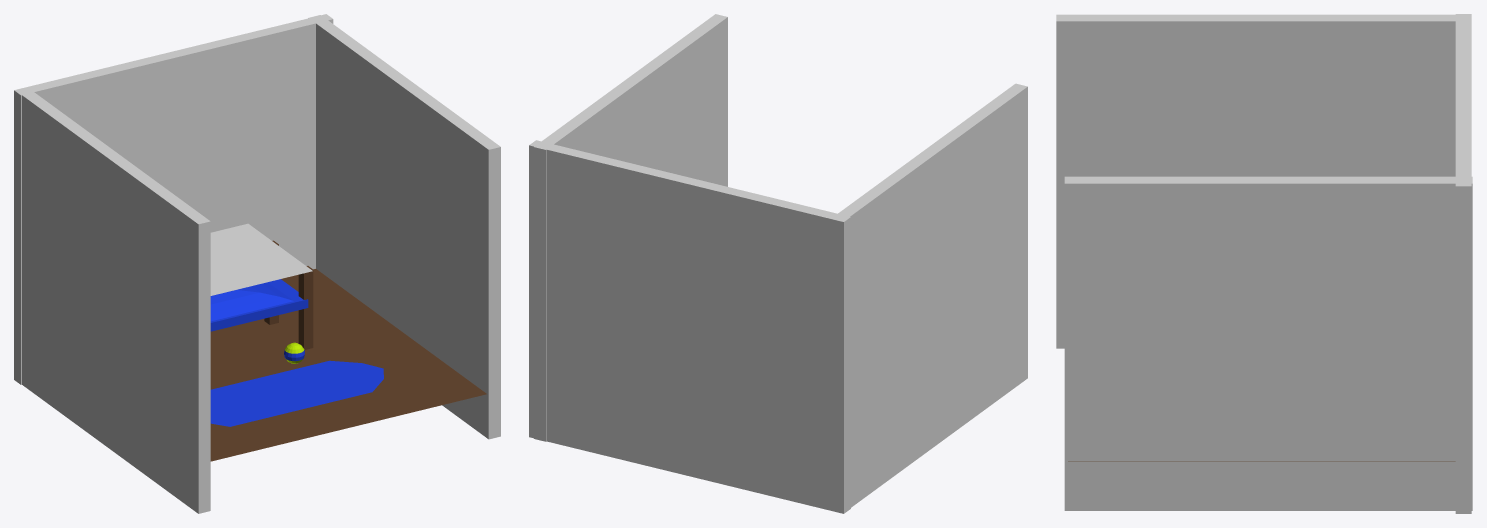
Rendered from andyfix.fbx.
The picture shows the model from 3 angles, left to right: view 1: azimuth 30°, elevation 25°; view 2: azimuth 150°, elevation 25°; view 3: azimuth 270°, elevation 25°; orthographic projection. The views are drawn at different scales.
Parts seen in each view (by area): view 1: Cube.002, Cube.001, Cube, Plane, Plane.001, Plane.002, Cube.004; view 2: Cube, Cube.002, Cube.001; view 3: Cube.001, Cube.002, Cube.
Boxes of the visible parts, x1,y1,x2,y2 form: Cube.002: (18,92,210,513); Cube.001: (308,15,500,439); Cube: (14,14,333,384); Plane: (210,269,486,461); Plane.001: (210,360,383,426); Plane.002: (210,223,312,295); Cube.004: (210,240,313,349); Cube: (529,140,850,513); Cube.002: (835,83,1027,507); Cube.001: (534,14,727,441); Cube.001: (1064,176,1472,510); Cube.002: (1056,14,1464,348); Cube: (1455,14,1471,513).
Size of the model in its own units: 5113 by 4529 by 5219.
